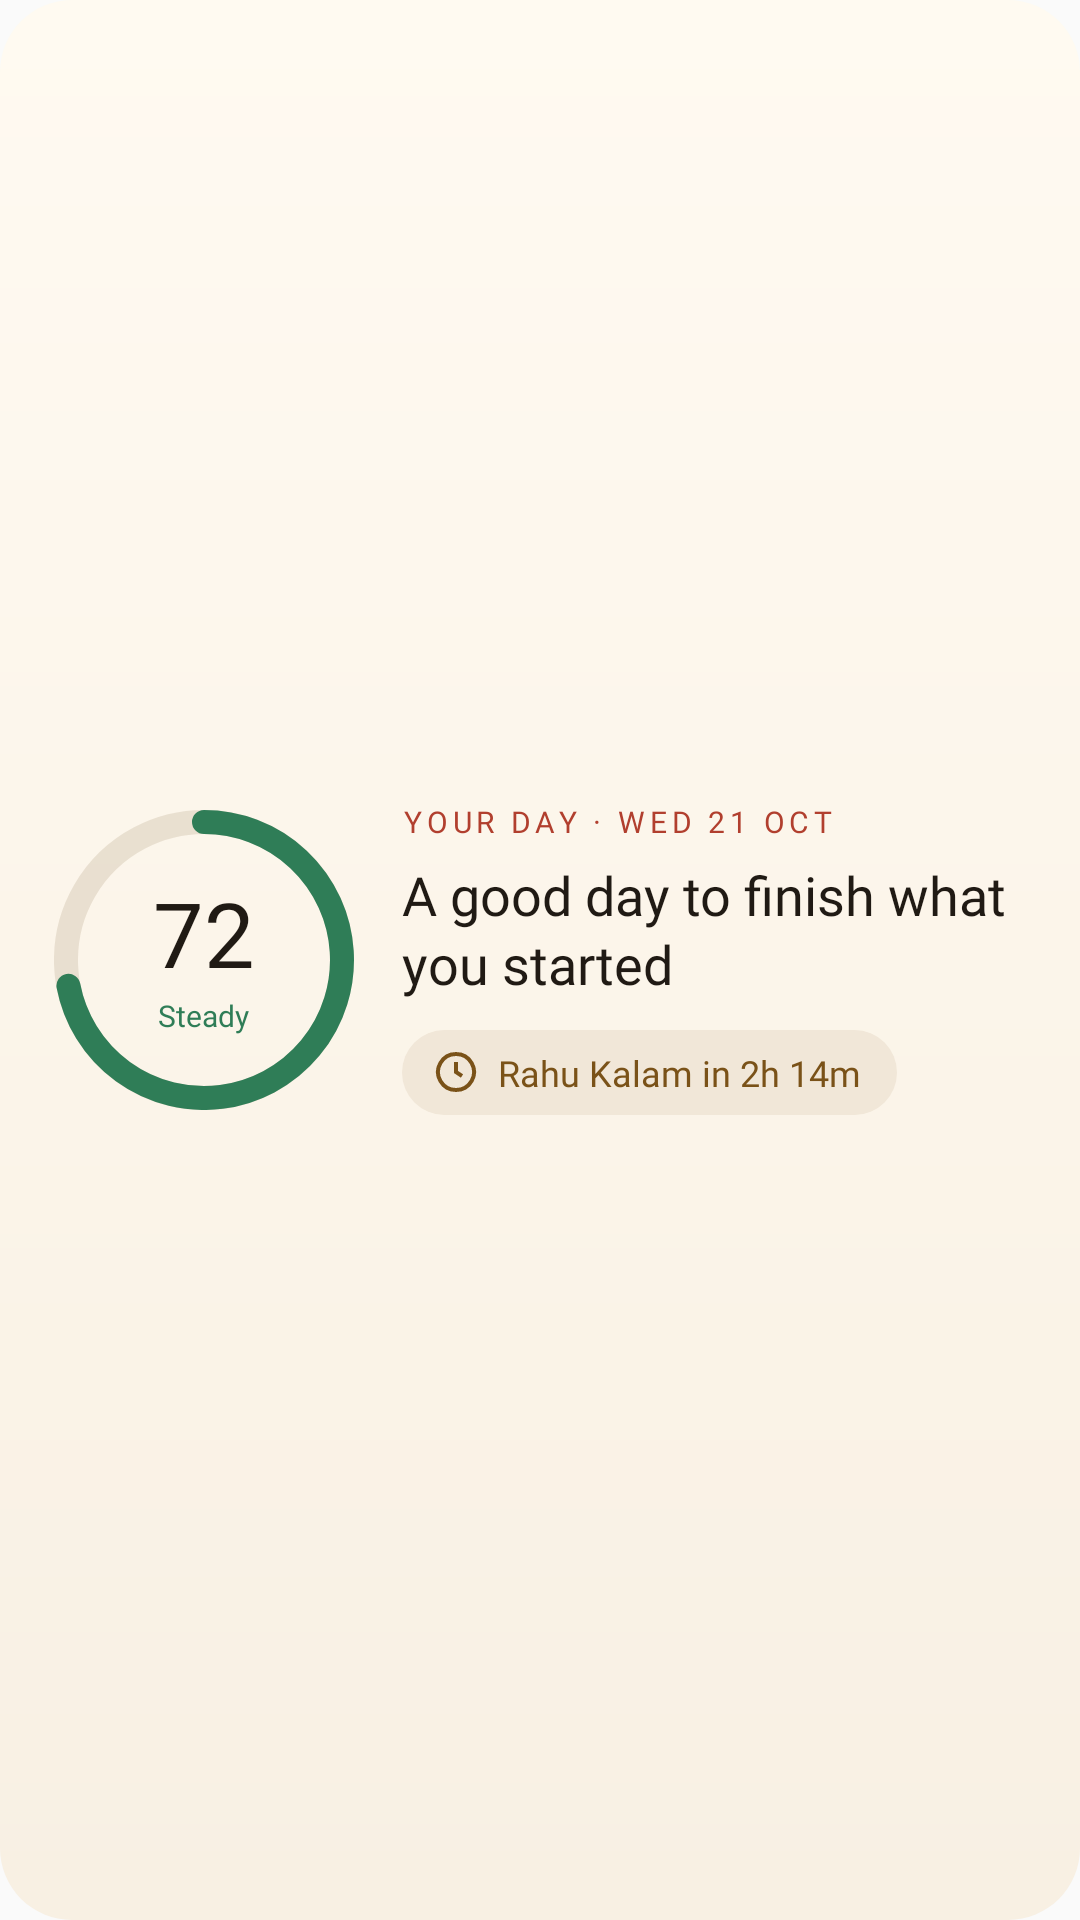

Where icons sit on this 1080x1920 app screen, as (x1, y1, x2, y2):
widget ring: (54, 810, 354, 1110)
